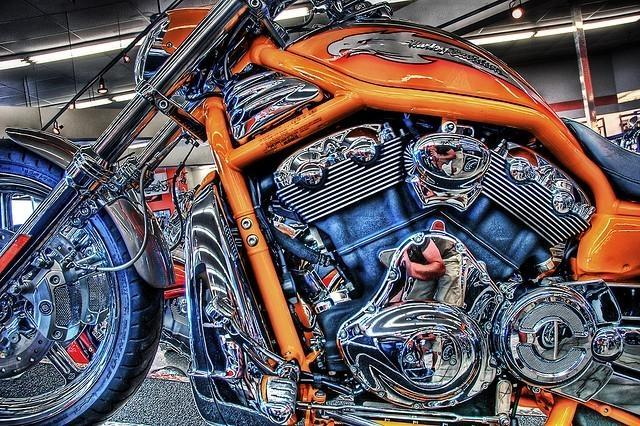motorcycle: (0, 1, 640, 421)
